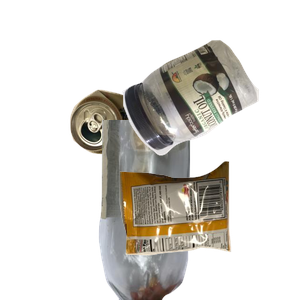glass: (96, 120, 283, 300)
metal: (67, 87, 206, 234)
plastic: (120, 37, 300, 185)
trash: (117, 159, 300, 300)
